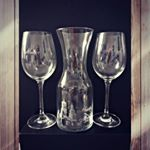other: (89, 30, 128, 131), (20, 29, 58, 131)
